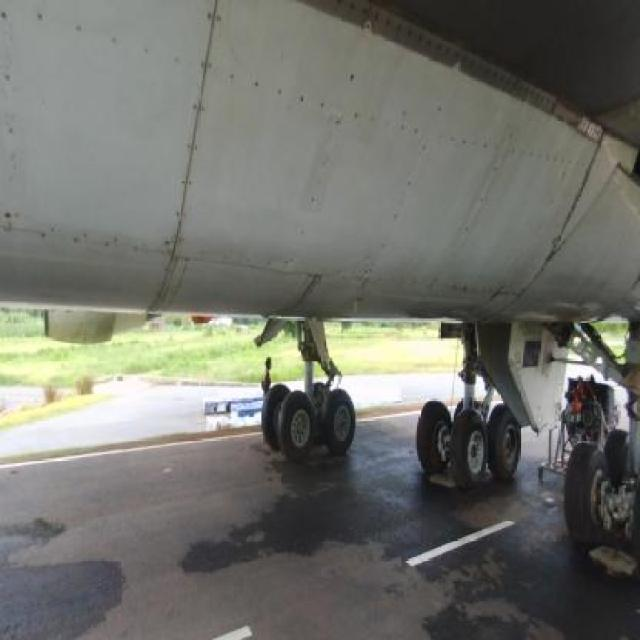Missing-Rivet: (211, 47, 386, 151), (171, 14, 237, 228), (48, 7, 208, 76), (468, 122, 584, 178), (426, 272, 534, 308)
